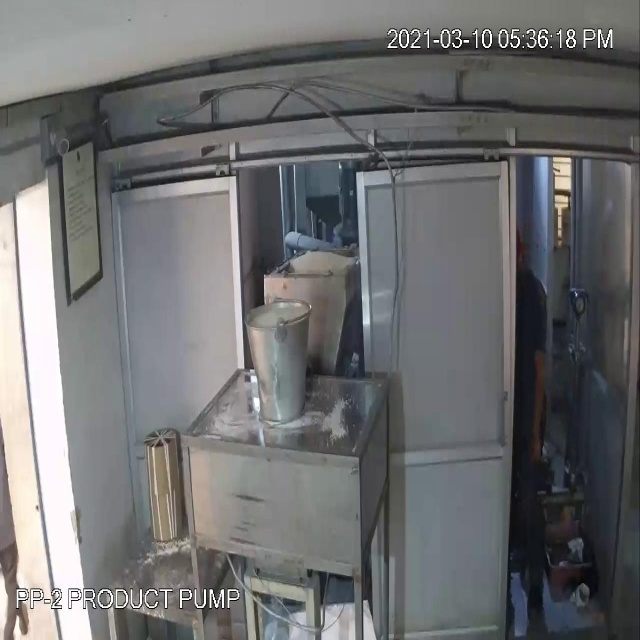Sin_guantes: (523, 345, 559, 480)
